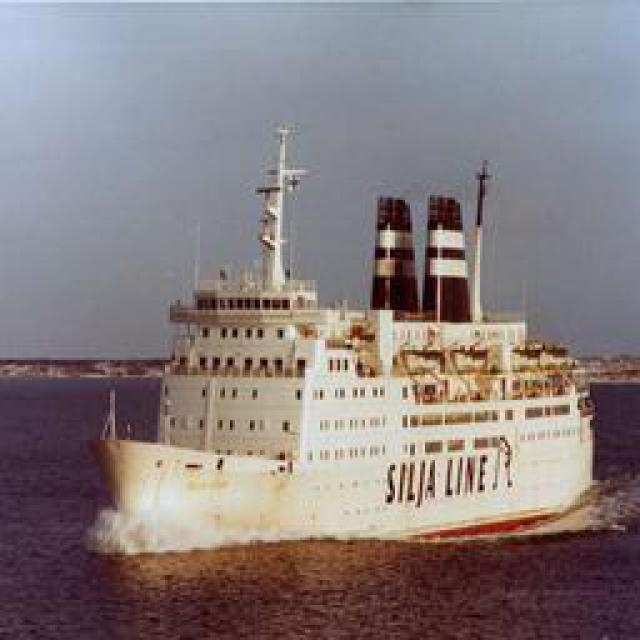Ship: (66, 114, 609, 589)
